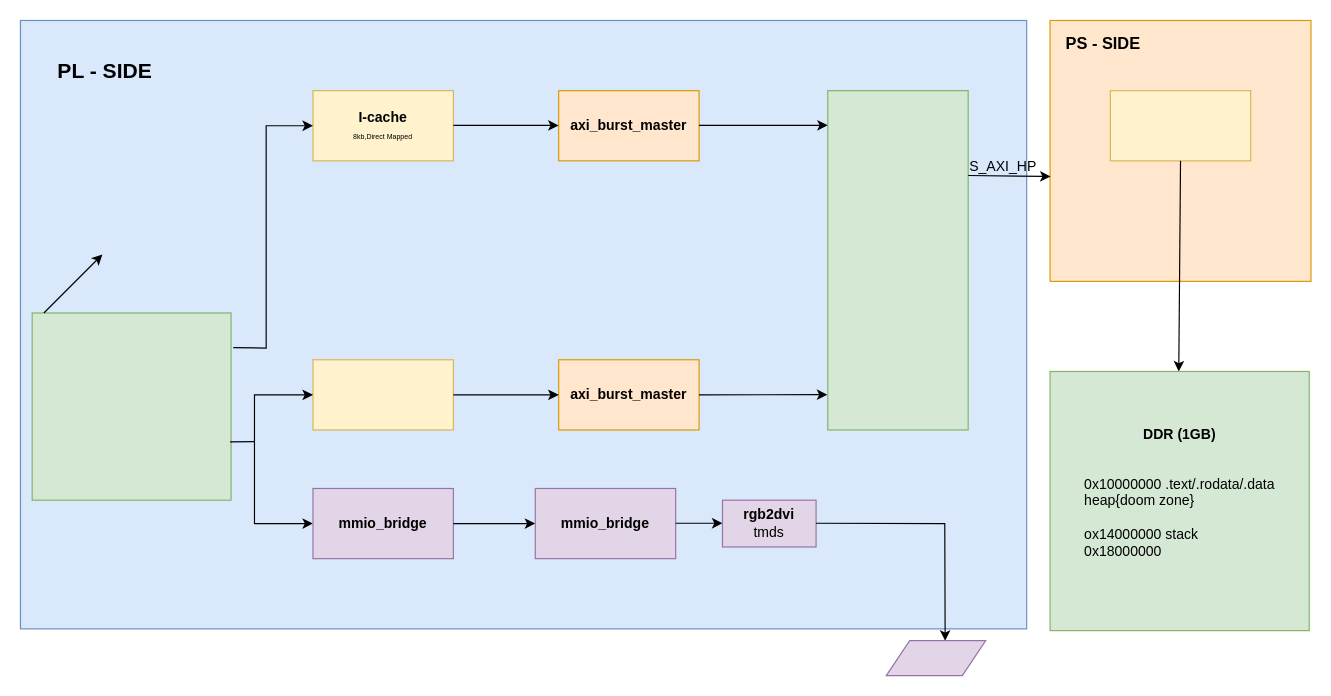
This 1331x696 diagram has some shape labels left out. The shapes that lost their labels are listed below. From the top down, each one's centre as x and y in pixels, then its label:
[1180,125]: DDR CONTROLLER
[897,260]: SMART_CONNECT 2-1
[131,406]: RV32IM DOOMCORE 5 Staged Pipelined Processor
[382,394]: D-cache 8kb,Direct Mapped
[935,657]: HDMI
